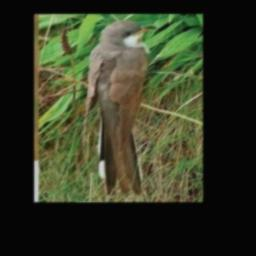Cuckoo: (86, 21, 157, 193)
